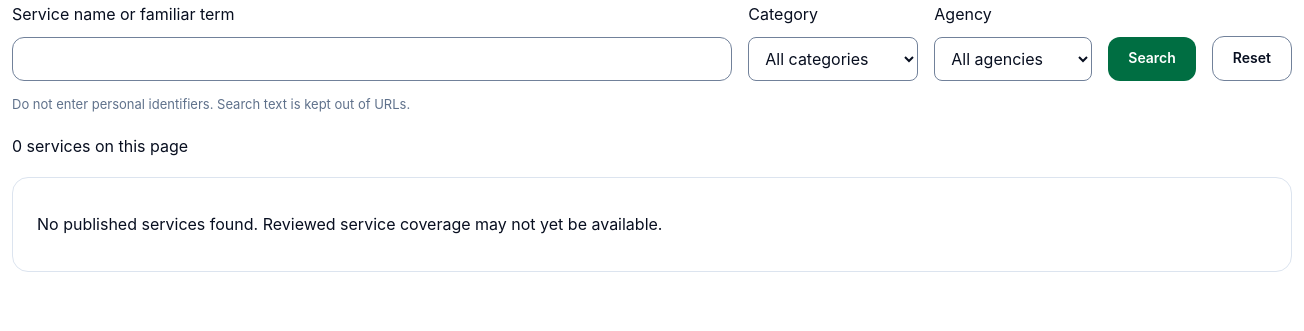
Test case: published search uses a POST body, accessible status and honest failures
Expected: the text "No published services found" is shown, [37, 214, 662, 234]
Type "Passport renew" into the field labelled "Service name or familiar term" at (372, 59), box [12, 37, 732, 81]
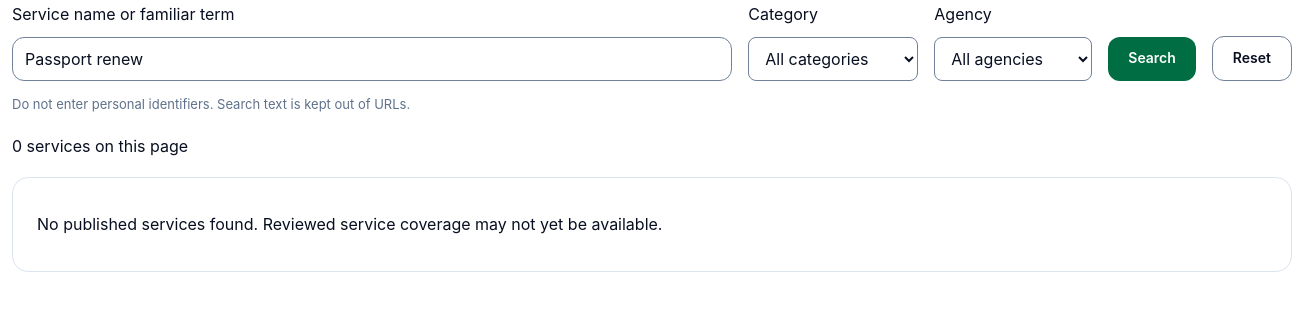
Click the button "Search" at (1152, 59), box [1108, 37, 1196, 81]
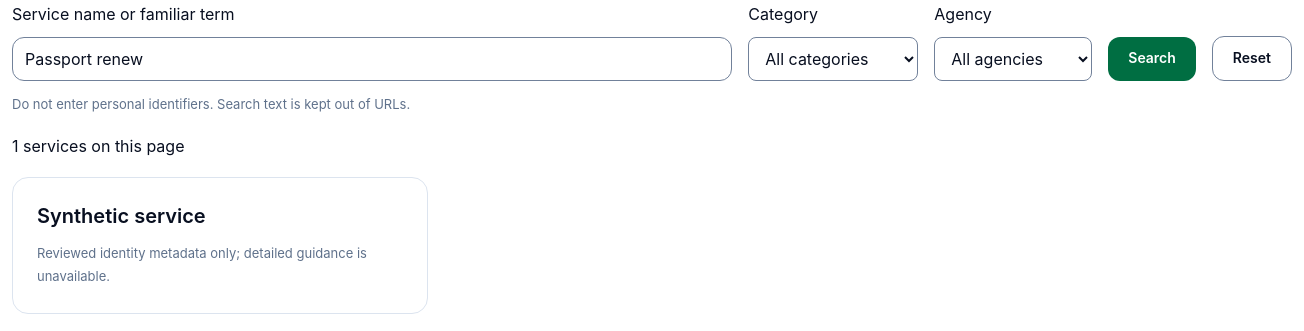
Click the button "Search" at (1152, 59), box [1108, 37, 1196, 81]
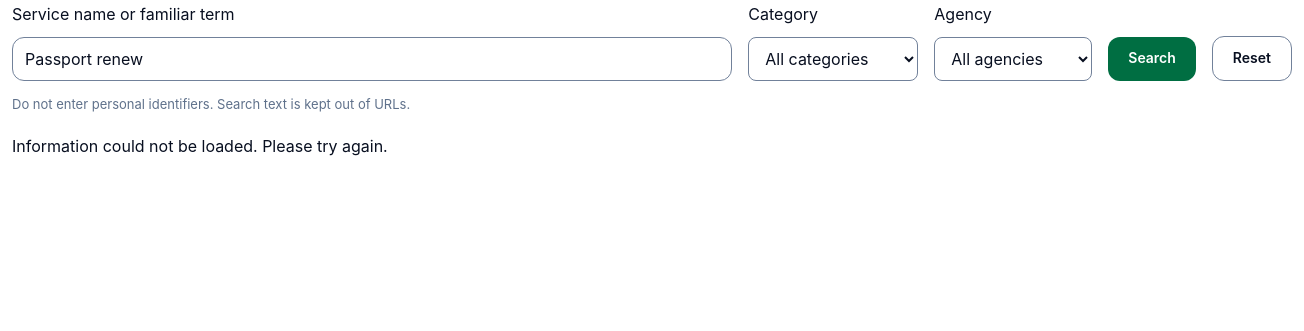
Result: the message shows "Information could not be loaded" at [12, 136, 388, 156]
Result: the link "Synthetic service" is gone
